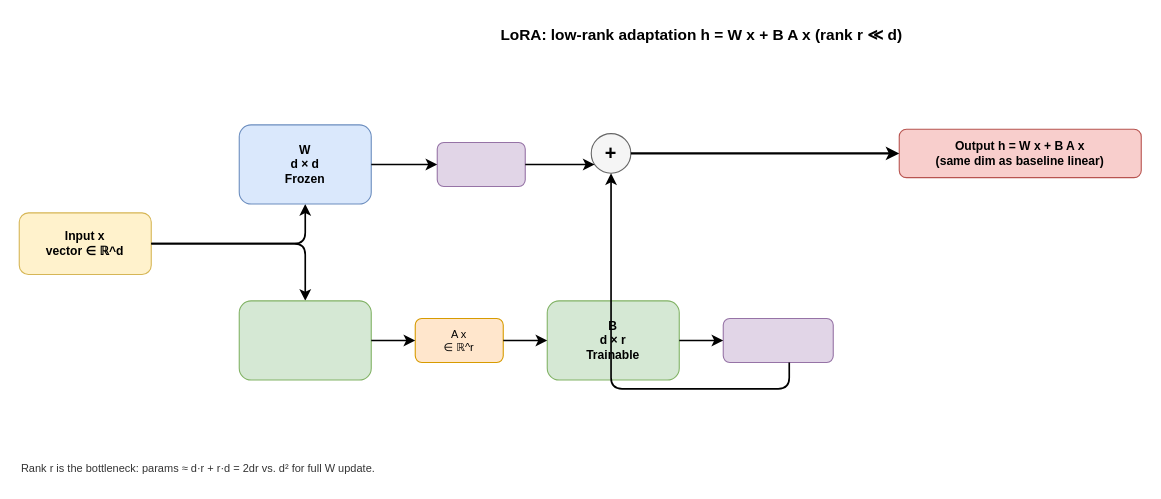
Some shapes in this 1161 by 499 pixel diagram are drawn without their labels. Here are the shapes that lost their labels. From the top down, the centre of each, then its label:
At point 480,163: "W x".
At point 304,340: "A r × d Trainable".
At point 777,339: "B (A x) ∈ ℝ^d".
